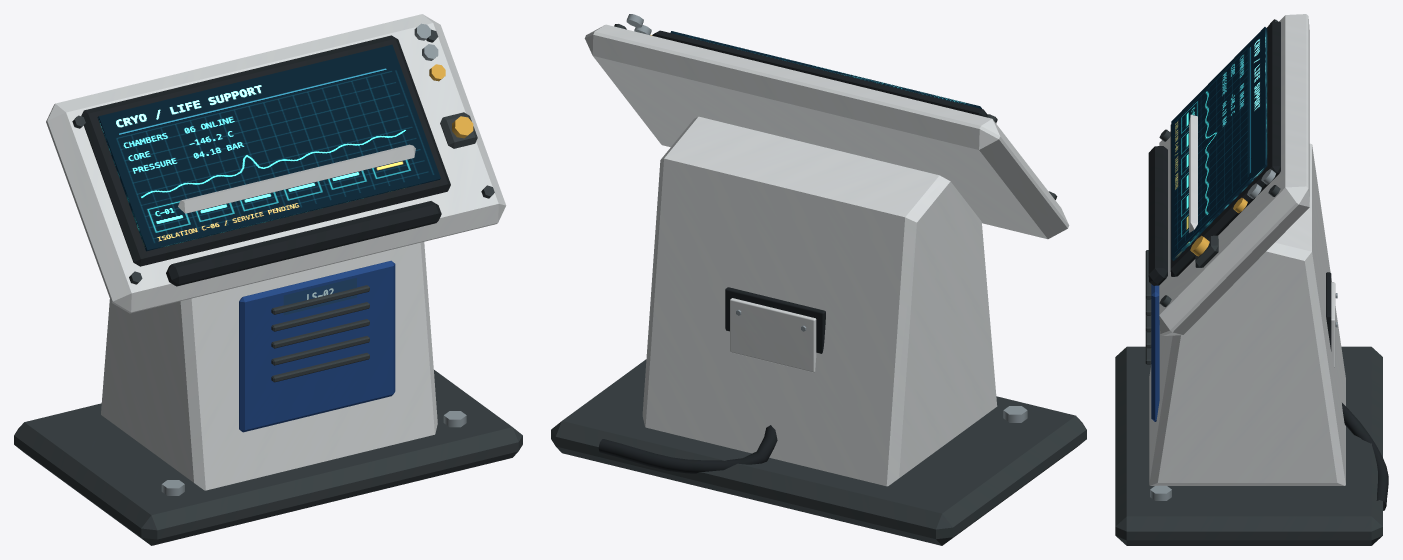
The model's file is 13_research_workstation.gltf.
3 renders of one model, left to right at view 1: azimuth 30°, elevation 25°; view 2: azimuth 150°, elevation 25°; view 3: azimuth 270°, elevation 25°, orthographic. The views are drawn at different scales.
Parts seen in each view (by area): view 1: 13_Cryo_Ceramic_Enamel.001, 13_Display_Shared_life_support_diagnostics, 13_Cryo_Anodized_Frame, 13_Cryo_EPDM_Gasket.001, 13_Cryo_Cobalt_Enamel, 13_Cryo_Brushed_Steel.001, 13_CRYO_SHARED_SIGNAGE_006, 13_Cryo_Safety_Paint; view 2: 13_Cryo_Ceramic_Enamel.001, 13_Cryo_Anodized_Frame, 13_Cryo_EPDM_Gasket.001, 13_Cryo_Ceramic_Enamel, 13_Cryo_EPDM_Gasket, 13_Display_Shared_life_support_diagnostics, 13_Cryo_Brushed_Steel.001; view 3: 13_Cryo_Ceramic_Enamel.001, 13_Cryo_Anodized_Frame, 13_Display_Shared_life_support_diagnostics, 13_Cryo_EPDM_Gasket.001, 13_Cryo_Cobalt_Enamel, 13_Cryo_Brushed_Steel.001, 13_Cryo_Ceramic_Enamel, 13_Cryo_Safety_Paint, 13_Cryo_EPDM_Gasket.
Part boxes in pixels (box(x1,y1,x2,y2)): 13_Cryo_Ceramic_Enamel.001: box(46, 14, 506, 490); 13_Display_Shared_life_support_diagnostics: box(97, 44, 440, 251); 13_Cryo_Anodized_Frame: box(14, 29, 522, 545); 13_Cryo_EPDM_Gasket.001: box(81, 35, 450, 286); 13_Cryo_Cobalt_Enamel: box(239, 260, 395, 432); 13_Cryo_Brushed_Steel.001: box(161, 23, 466, 495); 13_CRYO_SHARED_SIGNAGE_006: box(283, 277, 356, 315); 13_Cryo_Safety_Paint: box(429, 64, 473, 138); 13_Cryo_Ceramic_Enamel.001: box(584, 24, 1069, 486); 13_Cryo_Anodized_Frame: box(551, 24, 1086, 545); 13_Cryo_EPDM_Gasket.001: box(598, 30, 986, 473); 13_Cryo_Ceramic_Enamel: box(730, 298, 816, 372); 13_Cryo_EPDM_Gasket: box(725, 287, 825, 353); 13_Display_Shared_life_support_diagnostics: box(670, 31, 981, 108); 13_Cryo_Brushed_Steel.001: box(626, 14, 1027, 422); 13_Cryo_Ceramic_Enamel.001: box(1149, 14, 1345, 485); 13_Cryo_Anodized_Frame: box(1115, 19, 1382, 545); 13_Display_Shared_life_support_diagnostics: box(1171, 27, 1267, 260); 13_Cryo_EPDM_Gasket.001: box(1148, 21, 1388, 510); 13_Cryo_Cobalt_Enamel: box(1151, 284, 1159, 421); 13_Cryo_Brushed_Steel.001: box(1150, 169, 1275, 500); 13_Cryo_Ceramic_Enamel: box(1331, 282, 1335, 367); 13_Cryo_Safety_Paint: box(1190, 197, 1247, 256); 13_Cryo_EPDM_Gasket: box(1326, 272, 1331, 351).
Bounding box in the file's own units: 1.34 × 1.25 × 0.8371.
8 materials, 7 textured.
